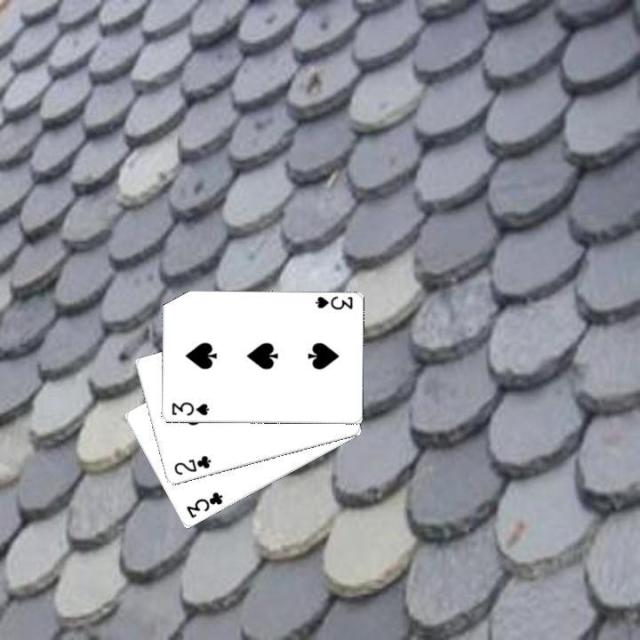2C: (170, 452, 212, 478)
3C: (182, 488, 224, 520)
3S: (167, 399, 211, 418), (311, 293, 354, 312)
